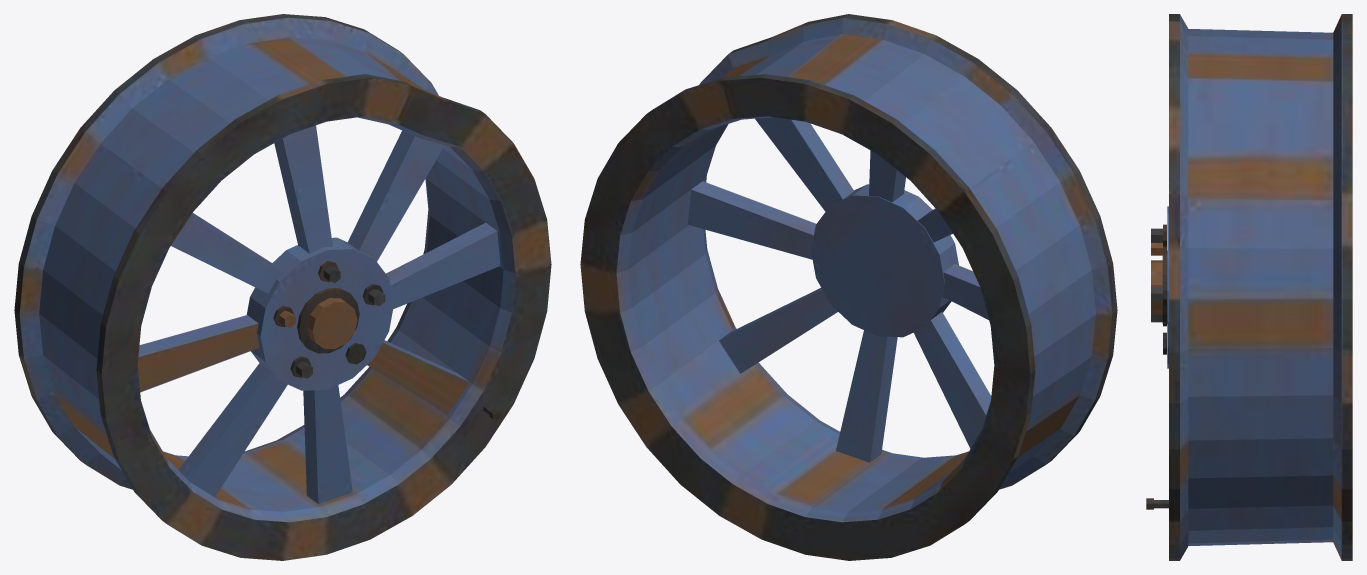
The model's file is JV16_car_wheel_rims_v2.glb.
3 views of the same model, side by side, from view 1: azimuth 30°, elevation 25°; view 2: azimuth 150°, elevation 25°; view 3: azimuth 270°, elevation 25° (orthographic). The views are drawn at different scales.
Visible parts, largest first — view 1: Rolled rim barrel; view 2: Rolled rim barrel; view 3: Rolled rim barrel.
Part boxes in pixels (x1=…): Rolled rim barrel: x1=14, y1=14, x2=551, y2=560; Rolled rim barrel: x1=580, y1=14, x2=1117, y2=560; Rolled rim barrel: x1=1146, y1=14, x2=1352, y2=560.
Bounding box in the file's own units: 0.7 × 0.7 × 0.264.
5 materials, 5 textured.
